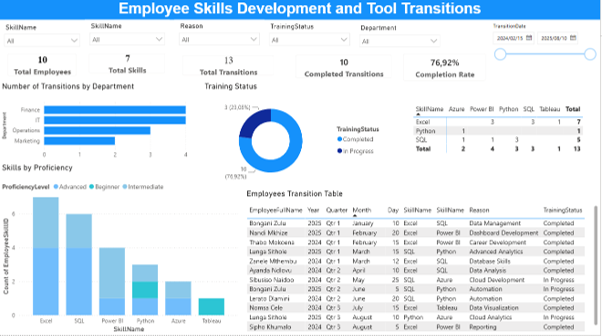

This screenshot's page, from the dashboard's own definition file:
{"tool":"powerbi","page":{"name":"Page 1","canvas":[1280,720],"ordinal":0},"visuals":[{"type":"textbox","box":[0,0,1280,46.7],"z":0},{"type":"cardVisual","fields":{"Data":["EmployeeSkills.Total Employees"]},"box":[0,102.1,181.9,82.7],"z":1000},{"type":"cardVisual","fields":{"Data":["EmployeeSkills.Total Skills"]},"box":[173.1,102.1,197.4,76.8],"z":2000},{"type":"cardVisual","fields":{"Data":["EmployeeSkills.Total Transitions"]},"box":[372.5,106,229.5,77.8],"z":3000},{"type":"cardVisual","fields":{"Data":["EmployeeSkills.Completed Transitions"]},"box":[613.7,105,239.3,84.6],"z":4000},{"type":"cardVisual","fields":{"Data":["EmployeeSkills.Completion Rate"]},"box":[843.3,102.1,210.1,92.4],"z":5000},{"type":"pivotTable","fields":{"Columns":["ToSkills.SkillName"],"Rows":["FromSkills.SkillName"],"Values":["EmployeeSkills.Number of Transitions"]},"box":[877.3,221.8,395.9,121.6],"z":6000},{"type":"columnChart","title":"Skills by Proficiency ","fields":{"Category":["Skills.SkillName"],"Series":["EmployeeSkills.ProficiencyLevel"],"Y":["CountNonNull(EmployeeSkills.EmployeeSkillID)"]},"box":[0,352.1,513.6,367.7],"z":7000},{"type":"donutChart","title":"Training Status","fields":{"Category":["SkillTransitions.TrainingStatus"],"Y":["CountNonNull(SkillTransitions.TransitionID)"]},"box":[431.9,179,396.8,221.8],"z":8000},{"type":"slicer","fields":{"Values":["FromSkills.SkillName"]},"box":[0,49.6,181.9,65.2],"z":9000},{"type":"slicer","fields":{"Values":["ToSkills.SkillName"]},"box":[181.9,46.7,180.9,58.4],"z":10000},{"type":"slicer","fields":{"Values":["SkillTransitions.TrainingStatus"]},"box":[564.1,47.7,192.6,65.2],"z":11000},{"type":"slicer","fields":{"Values":["SkillTransitions.Reason"]},"box":[372.5,46.7,191.6,58.4],"z":12000},{"type":"slicer","fields":{"Values":["Employees.Department"]},"box":[756.7,50.6,191.6,61.3],"z":13000},{"type":"slicer","fields":{"Values":["SkillTransitions.TransitionDate"]},"box":[1038.8,49.6,241.2,86.6],"z":14000},{"type":"barChart","fields":{"Category":["Employees.Department"],"Y":["EmployeeSkills.Number of Transitions"]},"box":[0,179,405.6,173.1],"z":15000},{"type":"tableEx","title":"Employees Transition Table","fields":{"Values":["Employees.EmployeeFullName","SkillTransitions.TransitionDate.Variation.Date Hierarchy.Year","SkillTransitions.TransitionDate.Variation.Date Hierarchy.Quarter","SkillTransitions.TransitionDate.Variation.Date Hierarchy.Month","SkillTransitions.TransitionDate.Variation.Date Hierarchy.Day","FromSkills.SkillName","ToSkills.SkillName","SkillTransitions.Reason","SkillTransitions.TrainingStatus"]},"box":[521.3,407.5,758.7,312.2],"z":16000}]}

Visuals, with their boxes in screenshot pixels (x1, y1, x2, y2), scaled from the page's 1280x720 canvas onto the 602x336 screenshot:
textbox: 0 0 601 22
cardVisual - EmployeeSkills.Total Employees: 0 48 86 86
cardVisual - EmployeeSkills.Total Skills: 81 48 174 83
cardVisual - EmployeeSkills.Total Transitions: 175 49 283 86
cardVisual - EmployeeSkills.Completed Transitions: 289 49 401 88
cardVisual - EmployeeSkills.Completion Rate: 397 48 495 91
pivotTable - ToSkills.SkillName x FromSkills.SkillName: 413 104 599 160
"Skills by Proficiency " columnChart: 0 164 242 335
"Training Status" donutChart: 203 84 390 187
slicer - FromSkills.SkillName: 0 23 86 54
slicer - ToSkills.SkillName: 86 22 171 49
slicer - SkillTransitions.TrainingStatus: 265 22 356 53
slicer - SkillTransitions.Reason: 175 22 265 49
slicer - Employees.Department: 356 24 446 52
slicer - SkillTransitions.TransitionDate: 489 23 601 64
barChart - Employees.Department x EmployeeSkills.Number of Transitions: 0 84 191 164
"Employees Transition Table" tableEx: 245 190 601 335
